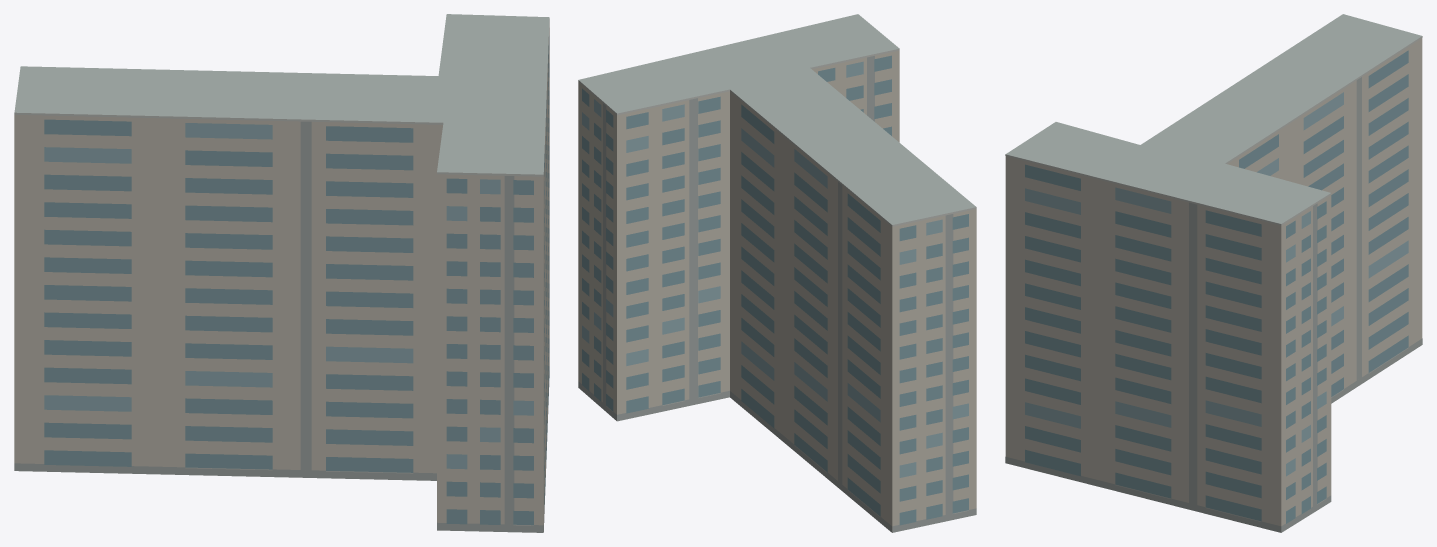
The model's file is residential-ad432e31-bf9a-4576-aa8a-57f023f346a5.glb.
3 views of the same model, side by side, from view 1: azimuth 30°, elevation 25°; view 2: azimuth 150°, elevation 25°; view 3: azimuth 270°, elevation 25° (orthographic). The views are drawn at different scales.
Visible parts, largest first — view 1: residential-ad432e31-bf9a-4576-aa8a-57f023f346a5.tmp; view 2: residential-ad432e31-bf9a-4576-aa8a-57f023f346a5.tmp; view 3: residential-ad432e31-bf9a-4576-aa8a-57f023f346a5.tmp.
Boxes of the visible parts, x1,y1,x2,y2 form: residential-ad432e31-bf9a-4576-aa8a-57f023f346a5.tmp: (14, 14, 549, 532); residential-ad432e31-bf9a-4576-aa8a-57f023f346a5.tmp: (578, 14, 976, 532); residential-ad432e31-bf9a-4576-aa8a-57f023f346a5.tmp: (1005, 14, 1422, 532).
Bounding box in the file's own units: 61.26 × 42 × 51.4.
